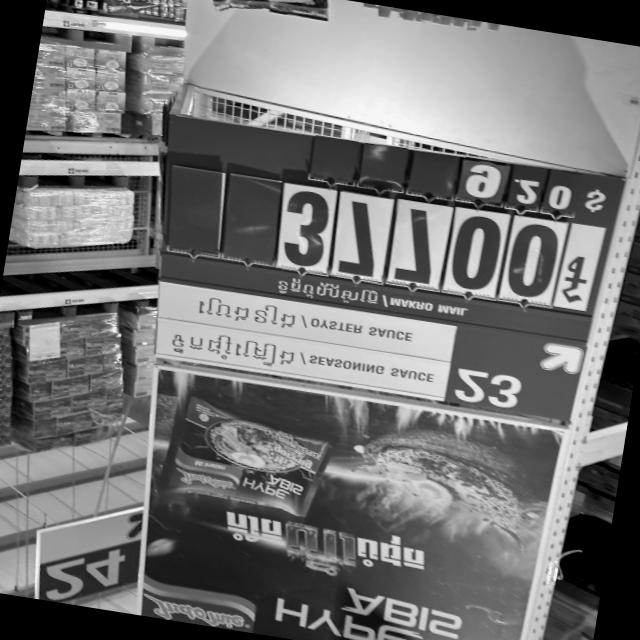665: (445, 363, 538, 415)
731: (259, 184, 569, 307)
Yolov11_80vkh: (163, 321, 306, 373), (181, 288, 305, 337), (263, 270, 382, 316)
